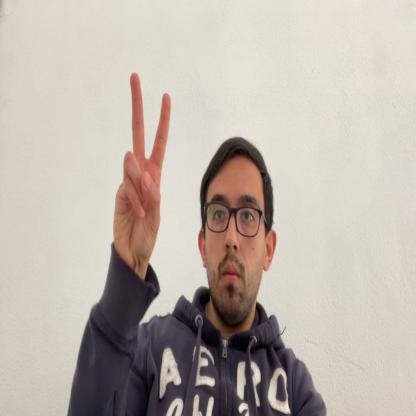V: (113, 72, 171, 273)
